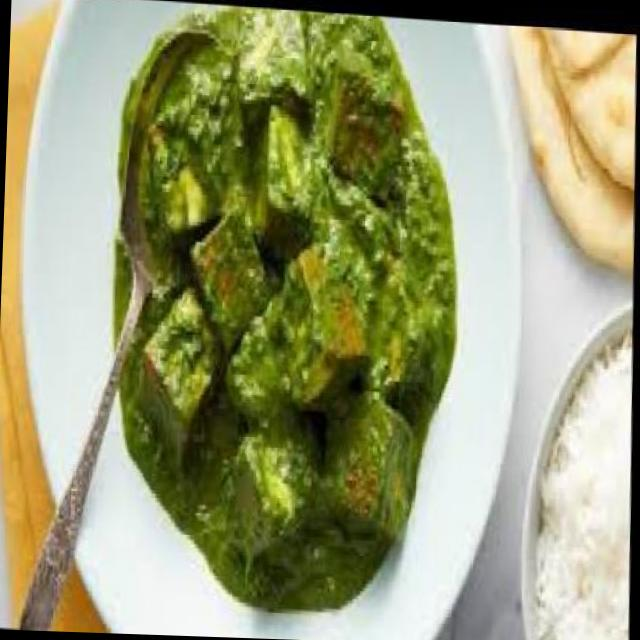palak_paneer: (96, 0, 474, 624)
